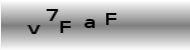7: (46, 8, 58, 21)
F: (104, 12, 118, 26), (58, 20, 71, 34)
a: (84, 18, 96, 29)
v: (27, 23, 41, 34)
